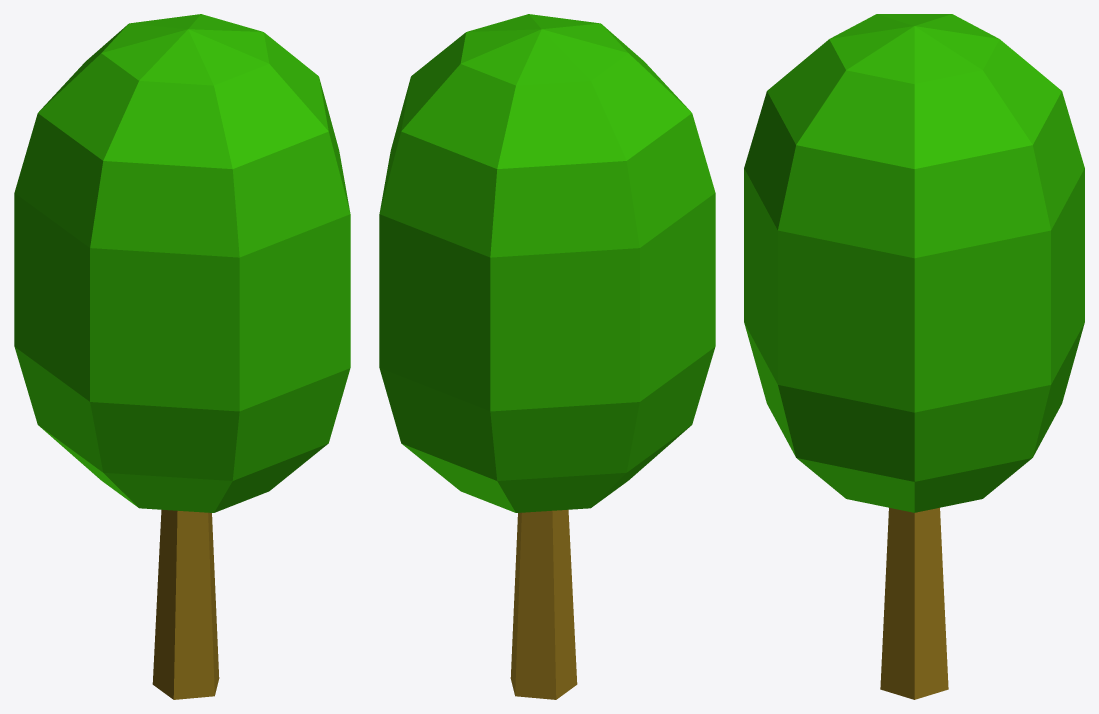
File: Tree.glb
The picture shows the model from 3 angles, left to right: view 1: azimuth 30°, elevation 25°; view 2: azimuth 150°, elevation 25°; view 3: azimuth 270°, elevation 25°; orthographic projection.
Visible parts, largest first — view 1: Foliage, Trunk; view 2: Foliage, Trunk; view 3: Foliage, Trunk.
Boxes of the visible parts, bbox=[...] form: Foliage: bbox=[14, 14, 350, 512]; Trunk: bbox=[152, 509, 219, 699]; Foliage: bbox=[379, 14, 715, 512]; Trunk: bbox=[510, 509, 577, 699]; Foliage: bbox=[744, 14, 1084, 512]; Trunk: bbox=[880, 507, 948, 699].
Bounding box in the file's own units: 16.68 × 36.49 × 17.11.
